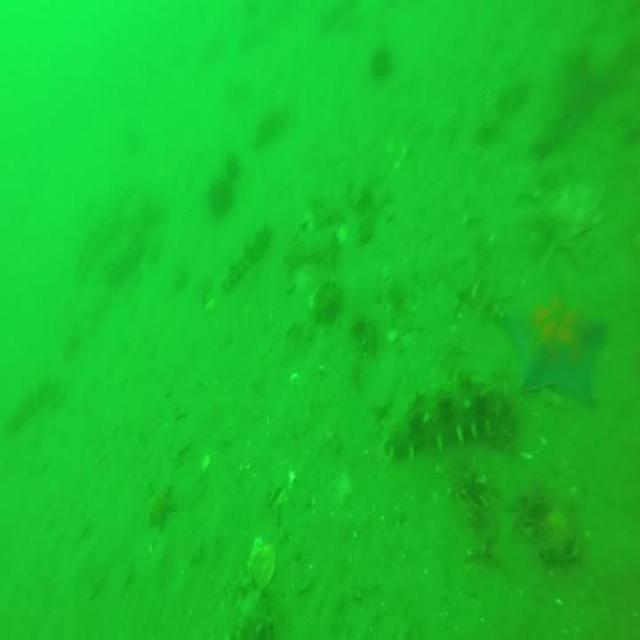holothurian: (370, 378, 517, 462), (214, 223, 270, 284)
scallop: (245, 534, 278, 586)
starfish: (507, 274, 608, 409)
